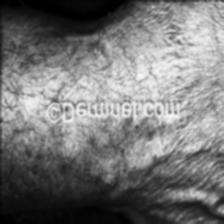Toxin: (144, 0, 191, 88)
